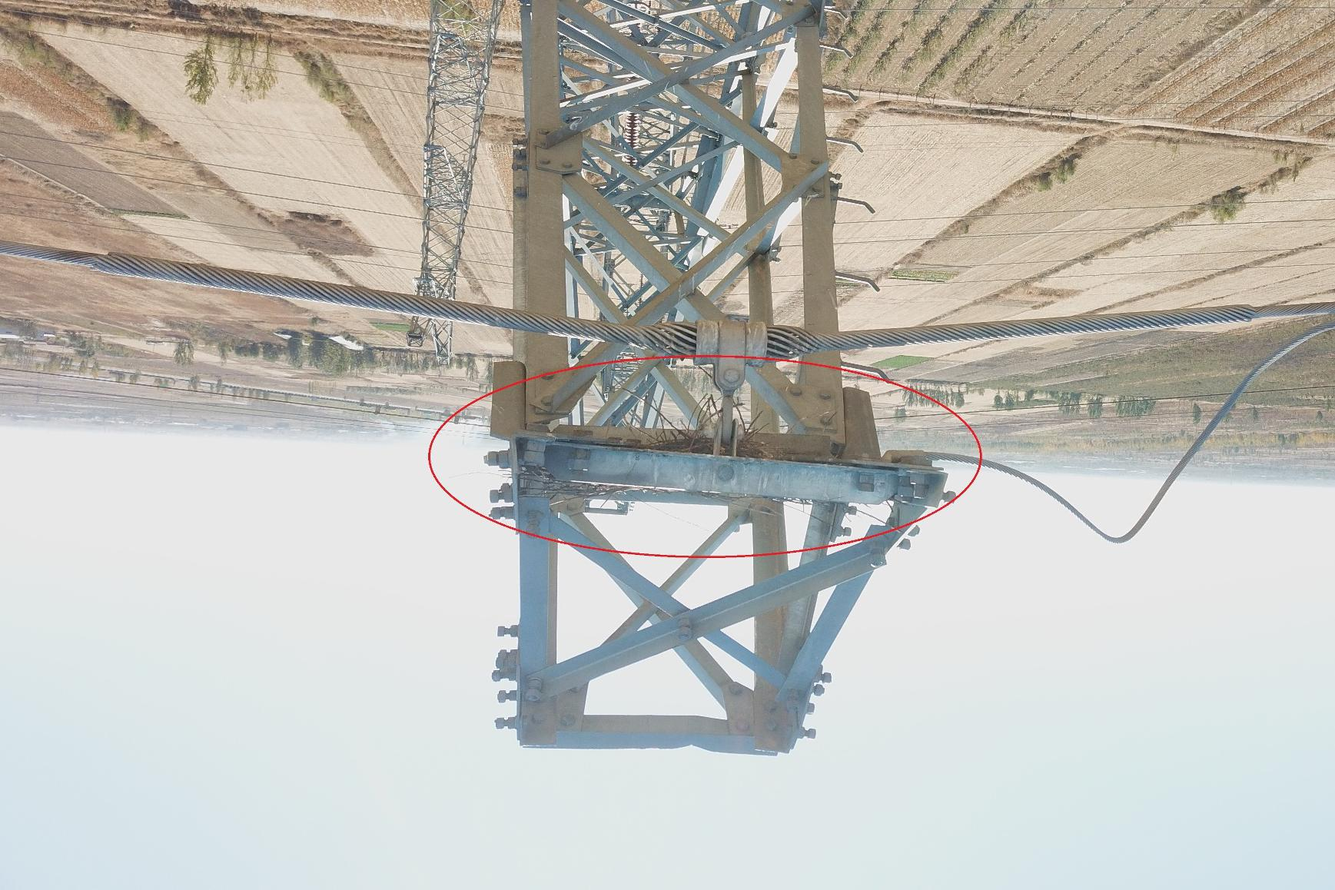nest: (514, 410, 776, 511)
